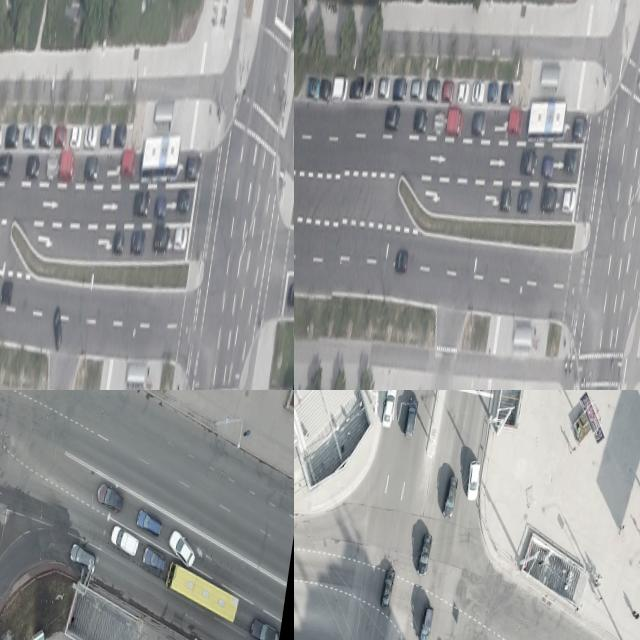UAI: (166, 528, 199, 570), (95, 480, 129, 514), (108, 524, 143, 557), (134, 505, 165, 540), (141, 545, 171, 577), (68, 542, 98, 571), (50, 305, 68, 352), (247, 616, 281, 640), (416, 532, 433, 577), (443, 477, 460, 520), (380, 390, 398, 430), (380, 567, 397, 609), (404, 398, 420, 440), (59, 149, 78, 183), (466, 461, 482, 501), (121, 146, 139, 180), (152, 223, 171, 255), (132, 188, 151, 220), (446, 107, 465, 139), (185, 151, 203, 183), (418, 604, 434, 640), (573, 112, 590, 144), (540, 185, 558, 215), (507, 107, 525, 137), (175, 186, 192, 217), (520, 148, 538, 177), (84, 153, 101, 183), (4, 122, 21, 151), (471, 109, 488, 138), (385, 105, 402, 132), (332, 76, 349, 103), (0, 150, 15, 180), (563, 147, 579, 175), (130, 230, 147, 256), (517, 188, 534, 214), (173, 225, 189, 252), (25, 153, 41, 180), (413, 108, 429, 135), (112, 228, 127, 256), (561, 188, 577, 214), (393, 75, 409, 101), (154, 193, 168, 221), (349, 76, 365, 100), (411, 77, 427, 101), (114, 122, 128, 149), (39, 123, 54, 148), (84, 125, 99, 150), (395, 249, 410, 274), (427, 77, 442, 102), (434, 109, 447, 137), (23, 124, 38, 148), (471, 81, 486, 105), (70, 123, 83, 150), (100, 122, 113, 149), (54, 124, 68, 149), (0, 280, 14, 305), (541, 155, 555, 179), (500, 188, 514, 212), (442, 80, 456, 104), (457, 80, 471, 104), (46, 156, 59, 181), (306, 76, 321, 97), (320, 78, 333, 102), (501, 82, 515, 104), (379, 75, 392, 97), (488, 80, 501, 102), (366, 76, 377, 98), (286, 280, 294, 310), (0, 122, 4, 147)
car: (160, 562, 243, 627), (140, 128, 184, 188), (526, 96, 569, 145)
